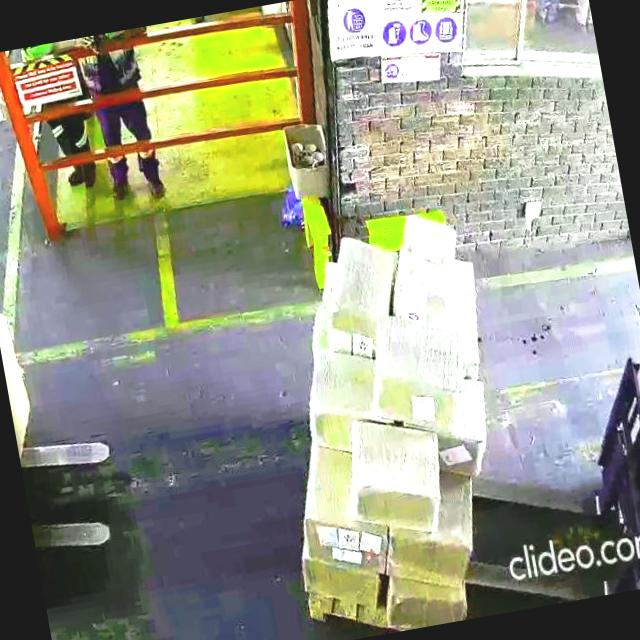Box: (365, 306, 473, 426), (342, 416, 450, 536), (377, 205, 475, 322), (303, 340, 382, 444), (386, 518, 480, 601), (326, 231, 395, 337), (298, 500, 389, 576), (296, 545, 379, 627), (385, 573, 466, 632)
